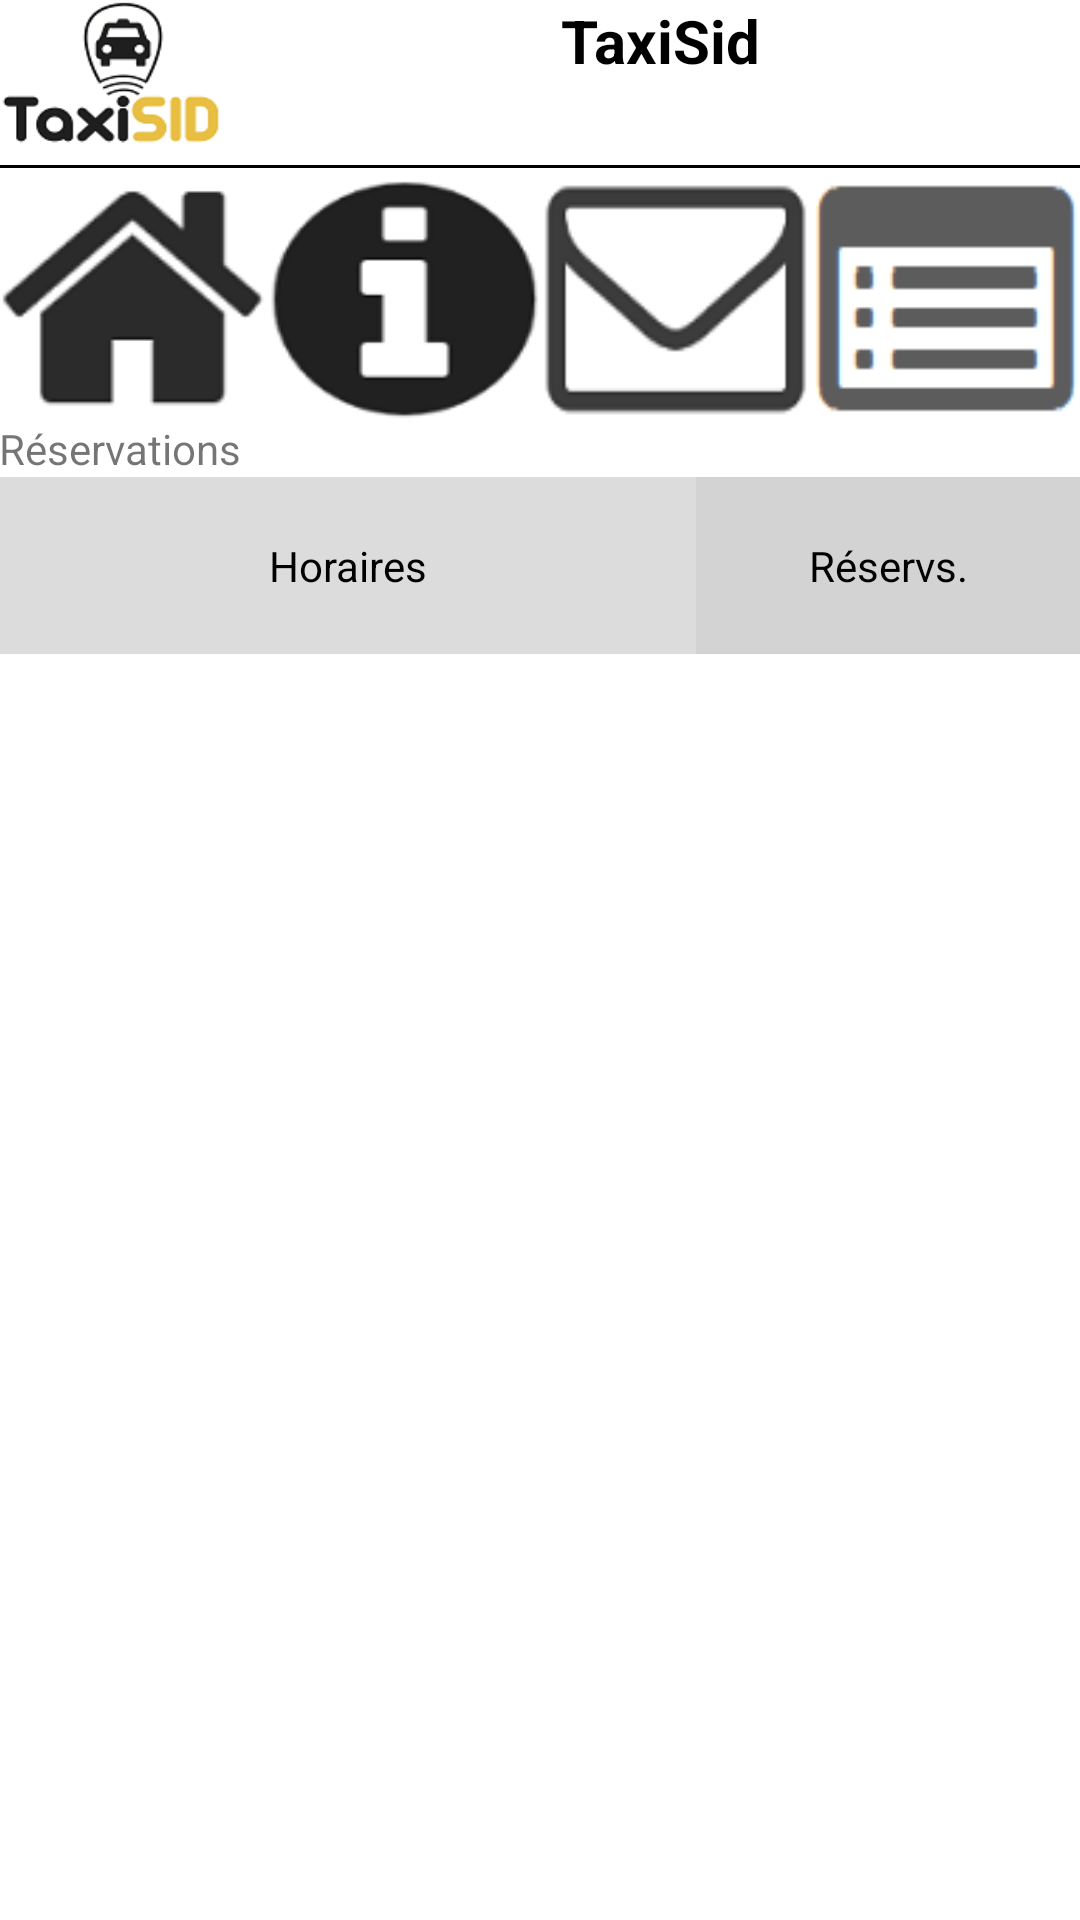

Where icons sit on this 1080px x 1920px app screen, as (x1, y1, x2, y2):
enveloppe: (545, 185, 806, 414)
home: (3, 191, 262, 405)
